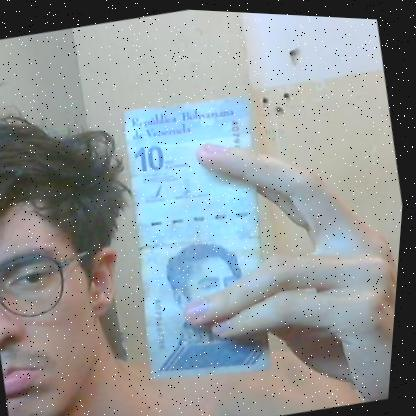ten-front-vef: (100, 83, 305, 392)
